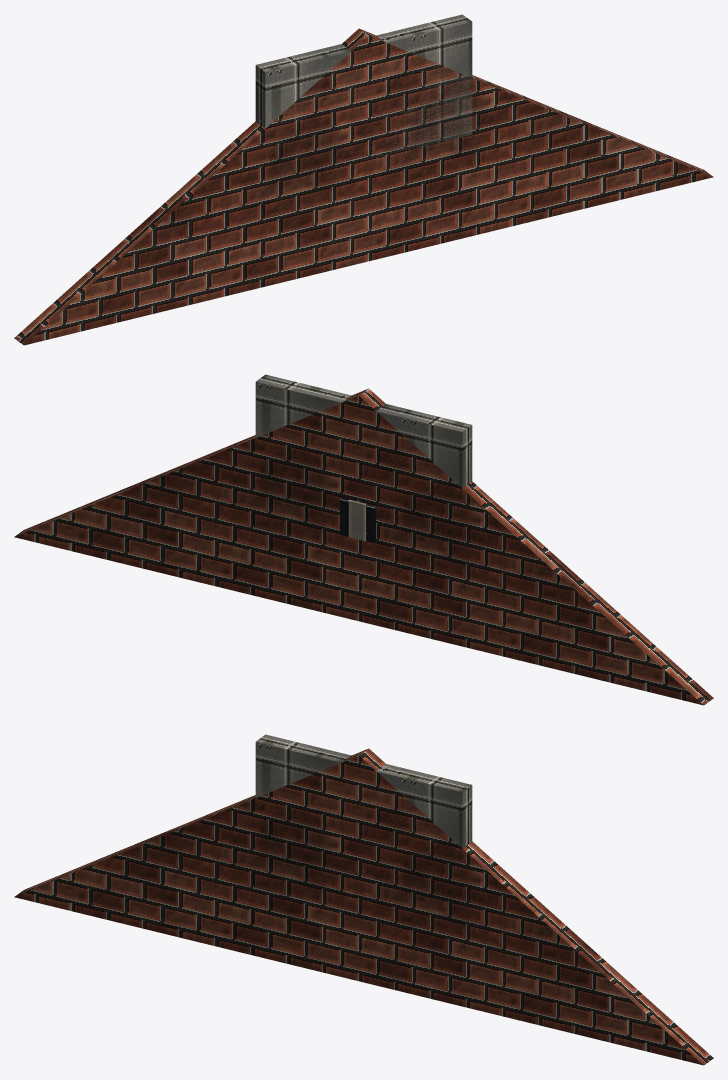
The model's file is gable_brick_12.glb.
The picture shows the model from 3 angles, top to bottom: view 1: azimuth 30°, elevation 25°; view 2: azimuth 150°, elevation 25°; view 3: azimuth 330°, elevation 25°; orthographic projection.
Visible parts, largest first — view 1: gable_brick_12_mesh, gable_brick_12_col-colonly.001; view 2: gable_brick_12_mesh, gable_brick_12_col-colonly.001; view 3: gable_brick_12_mesh, gable_brick_12_col-colonly.001.
Part boxes in pixels (<box>): gable_brick_12_mesh: <box>14,28,713,345</box>; gable_brick_12_col-colonly.001: <box>255,14,472,165</box>; gable_brick_12_mesh: <box>14,388,713,705</box>; gable_brick_12_col-colonly.001: <box>255,374,472,492</box>; gable_brick_12_mesh: <box>14,748,713,1065</box>; gable_brick_12_col-colonly.001: <box>255,734,472,848</box>.
Size of what is drawn, in the model's own units: 12 by 3.75 by 0.355.
Materials: 3 (3 with a texture image).
